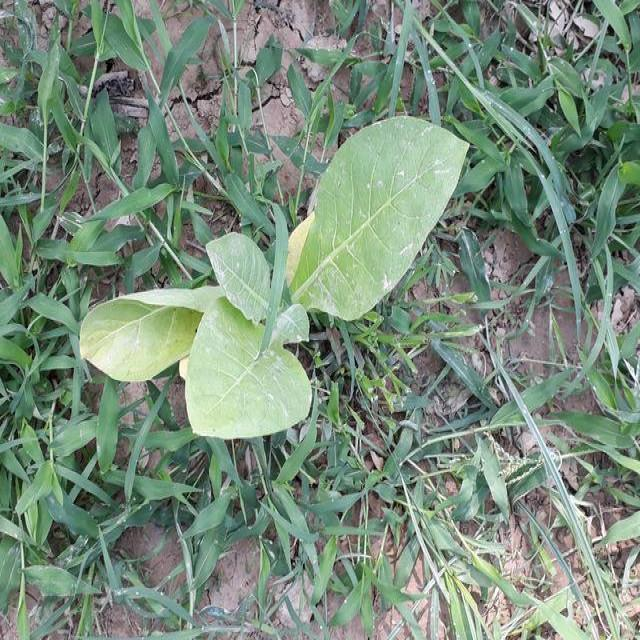crop: (75, 110, 467, 441)
